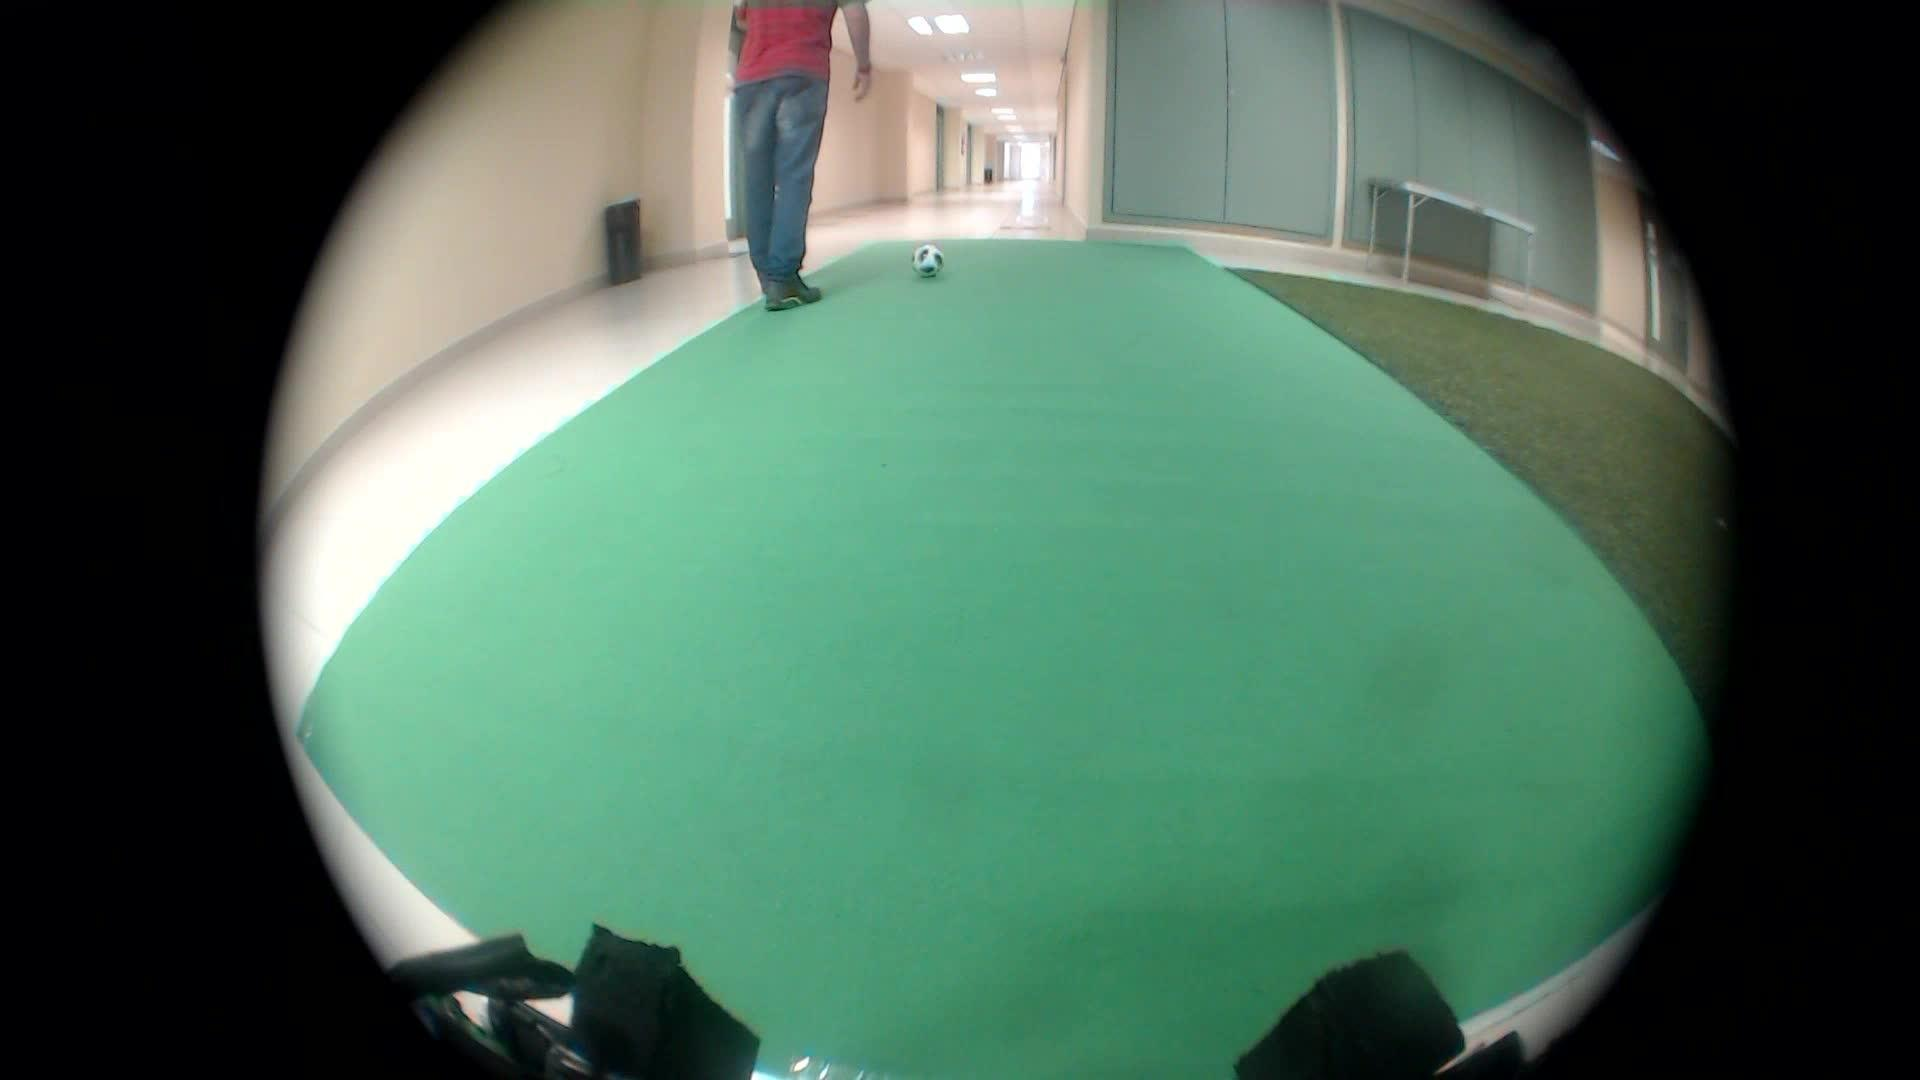ball: (901, 240, 942, 289)
